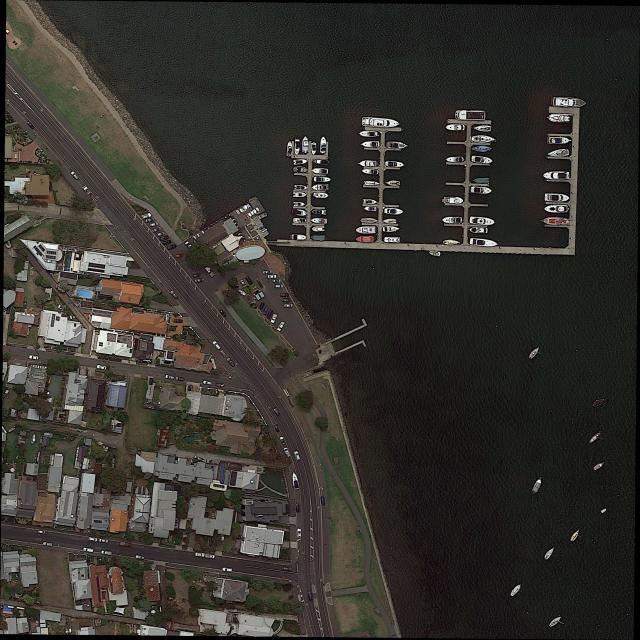large-vehicle: (120, 541, 134, 548), (82, 185, 91, 195), (101, 550, 112, 556), (83, 548, 94, 553), (205, 554, 215, 559)
ship: (362, 117, 400, 128), (550, 97, 586, 108), (470, 237, 499, 249), (455, 109, 486, 120), (469, 216, 496, 226), (547, 114, 573, 123), (545, 193, 570, 202), (541, 217, 569, 225), (471, 155, 493, 165), (509, 583, 523, 598), (548, 615, 563, 629), (543, 172, 569, 180), (532, 476, 544, 493), (547, 149, 569, 158), (527, 346, 541, 360), (471, 135, 495, 143), (544, 205, 568, 213), (470, 186, 493, 194), (543, 546, 556, 560), (291, 471, 300, 490), (588, 431, 601, 444), (387, 141, 408, 149), (547, 137, 571, 144), (570, 528, 582, 542), (356, 226, 376, 234), (471, 145, 493, 152), (442, 197, 464, 204), (592, 398, 607, 408), (292, 208, 308, 217), (442, 217, 462, 224), (446, 124, 465, 131), (359, 131, 378, 138), (385, 161, 404, 168), (384, 208, 403, 215), (446, 156, 464, 163), (361, 141, 379, 148), (302, 136, 309, 154), (358, 161, 378, 167), (593, 461, 605, 471), (293, 166, 308, 174), (474, 125, 491, 132), (362, 168, 379, 175), (310, 217, 327, 224), (361, 217, 378, 224), (383, 226, 400, 233), (469, 227, 488, 233), (290, 234, 306, 241), (312, 168, 328, 175), (356, 236, 374, 242), (314, 192, 329, 199), (314, 176, 331, 182), (312, 184, 329, 190), (384, 237, 400, 243), (320, 137, 326, 153), (313, 159, 329, 165), (363, 199, 378, 205), (293, 159, 308, 165), (443, 240, 460, 245), (429, 250, 441, 257), (386, 180, 400, 186), (312, 209, 326, 215), (238, 288, 247, 297), (312, 226, 325, 232), (287, 141, 292, 156), (364, 181, 379, 186), (295, 140, 300, 155), (293, 192, 307, 197), (382, 219, 396, 224), (294, 185, 307, 190), (293, 202, 306, 207), (293, 218, 306, 223), (311, 143, 316, 155), (600, 507, 607, 514), (364, 207, 376, 211)
small-vehicle: (226, 357, 236, 367), (170, 290, 179, 300), (277, 321, 285, 332), (212, 341, 221, 350), (266, 309, 274, 319), (270, 314, 278, 324), (71, 171, 79, 181), (283, 448, 291, 458), (245, 276, 253, 285), (279, 436, 286, 446), (294, 451, 301, 461), (99, 538, 110, 544), (219, 309, 227, 317), (240, 279, 247, 288), (167, 244, 177, 250), (175, 376, 185, 382), (274, 423, 280, 433), (263, 306, 269, 316), (152, 227, 162, 233), (141, 213, 151, 219), (222, 567, 233, 572), (175, 253, 184, 259), (160, 235, 169, 241), (156, 231, 165, 237), (43, 542, 53, 547), (145, 218, 155, 223), (97, 365, 107, 370), (135, 555, 145, 560), (88, 537, 98, 542), (29, 355, 39, 360), (282, 566, 292, 571), (274, 408, 280, 416), (259, 302, 265, 310), (148, 378, 154, 386), (192, 273, 201, 278), (195, 278, 204, 283), (203, 380, 212, 385), (165, 375, 174, 380), (308, 591, 313, 600), (163, 240, 171, 245), (150, 222, 158, 227), (268, 275, 277, 279), (284, 304, 293, 308), (280, 293, 289, 297), (275, 284, 284, 288), (272, 279, 281, 283), (321, 497, 325, 506), (297, 529, 301, 538), (38, 530, 46, 534), (296, 504, 300, 512), (263, 271, 272, 274), (282, 299, 291, 302)
